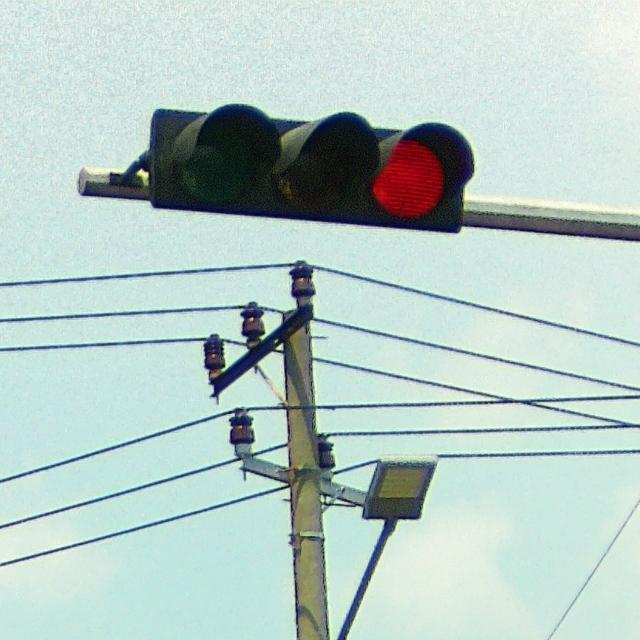red light: (148, 107, 476, 235)
